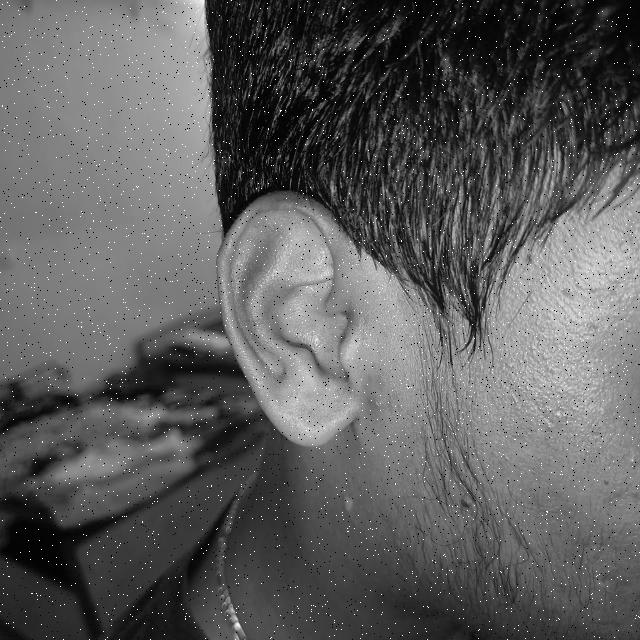ear: (216, 192, 360, 445), (361, 282, 366, 286)
